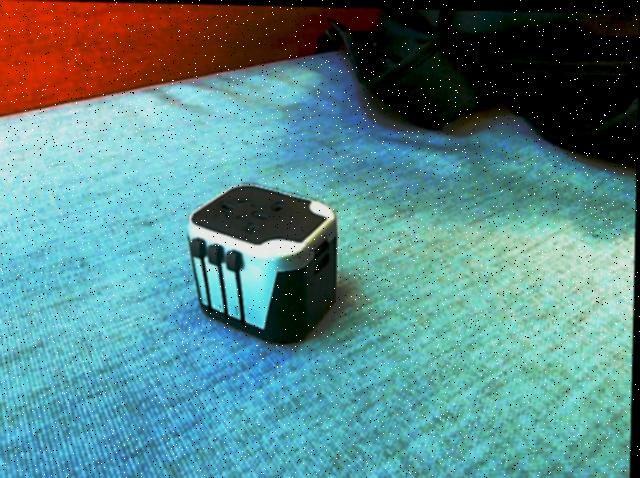adapter: (185, 181, 340, 344)
